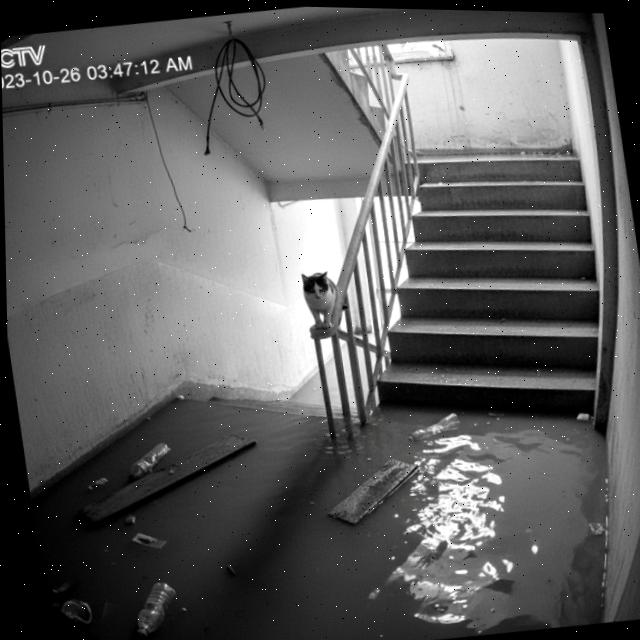cat: (290, 263, 349, 340)
